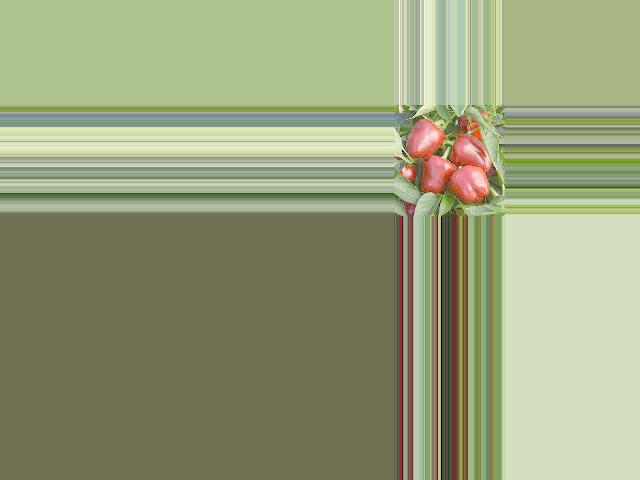bell_pepper: (440, 164, 493, 202)
